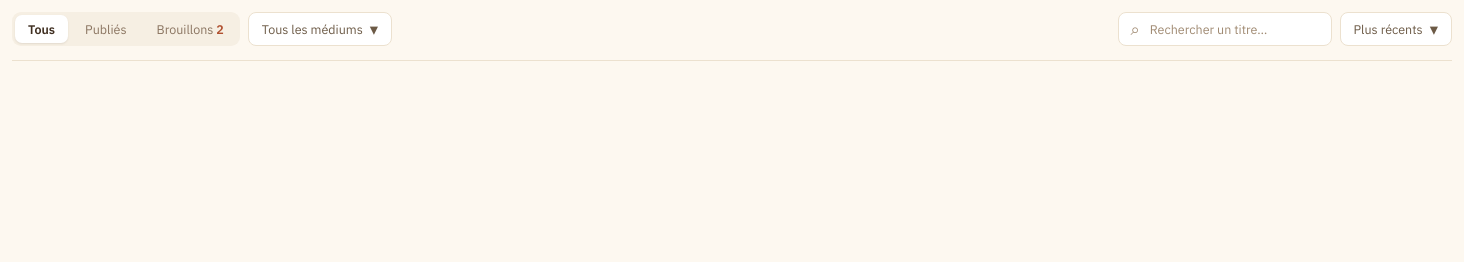
Test: AA-2 ArticlesToolbar › opens the medium dropdown and reports the selected medium
The width and height of the screenshot is (1464, 262).
Click the button "Tous les médiums" at (320, 29), box x1=248 y1=12 x2=392 y2=46
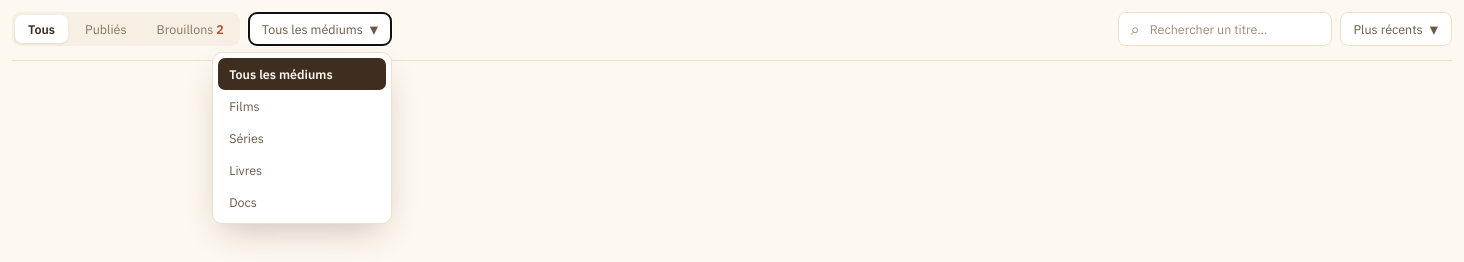
Click the button "Séries" at (302, 138), box x1=218 y1=122 x2=386 y2=154
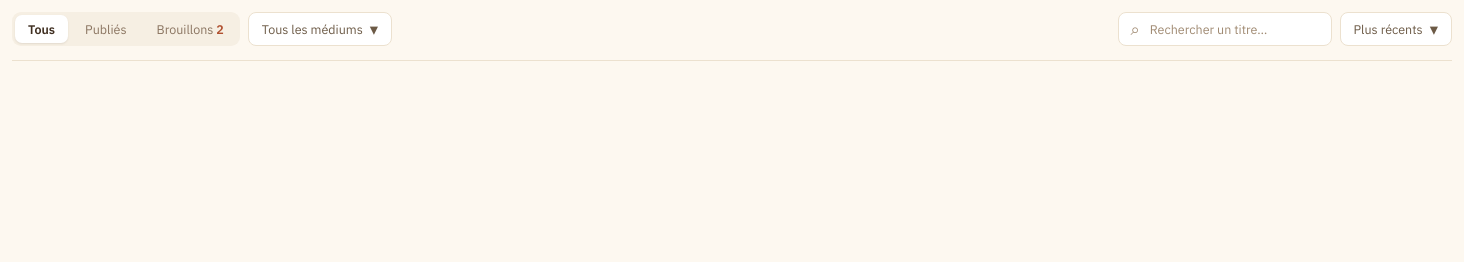
Expected: the list is gone
